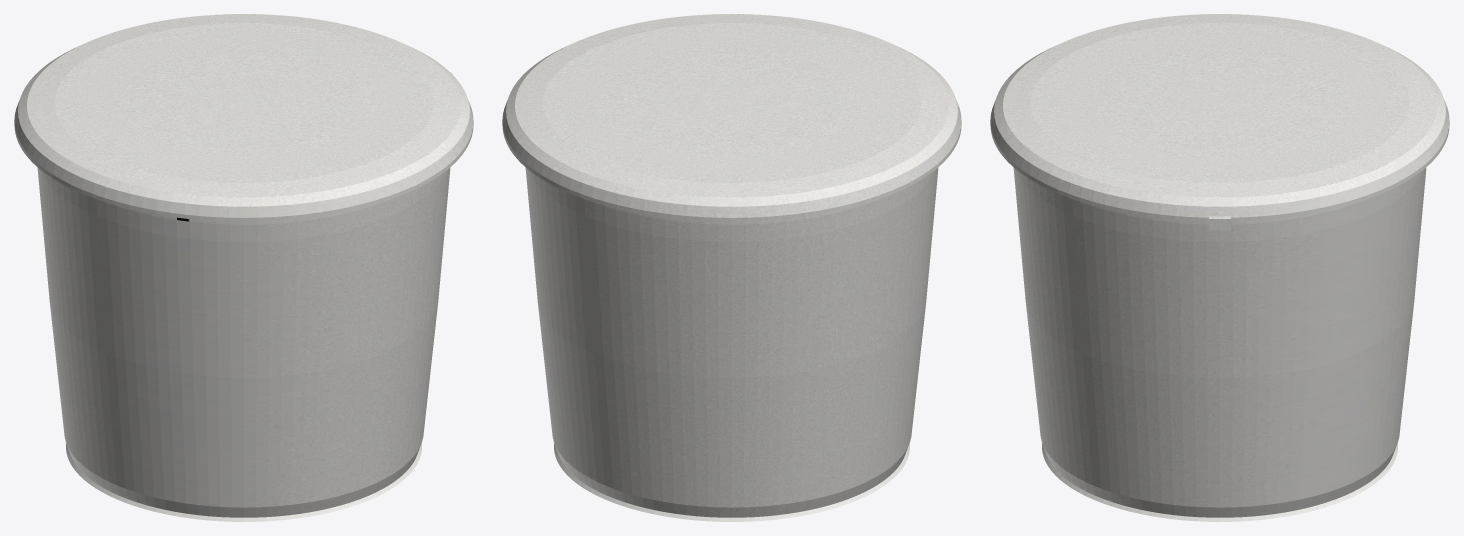
Rendered from dairy-container-procedural.glb.
3 renders of one model, left to right at view 1: azimuth 30°, elevation 25°; view 2: azimuth 150°, elevation 25°; view 3: azimuth 270°, elevation 25°, orthographic.
Visible parts, largest first — view 1: DairyProductsContainer; view 2: DairyProductsContainer; view 3: DairyProductsContainer.
Boxes of the visible parts, x1,y1,x2,y2 form: DairyProductsContainer: [14, 14, 473, 521]; DairyProductsContainer: [502, 14, 961, 521]; DairyProductsContainer: [990, 14, 1449, 521].
Size of the model in its own units: 0.0835 by 0.0685 by 0.0825.
1 material, 1 textured.
